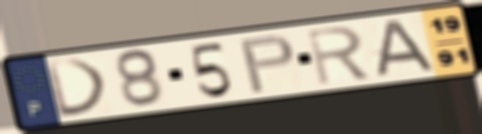5: (186, 40, 235, 99)
8: (112, 48, 166, 111)
A: (370, 17, 440, 79)
D: (43, 57, 113, 120)
P: (237, 32, 299, 96)
R: (304, 24, 375, 88)
